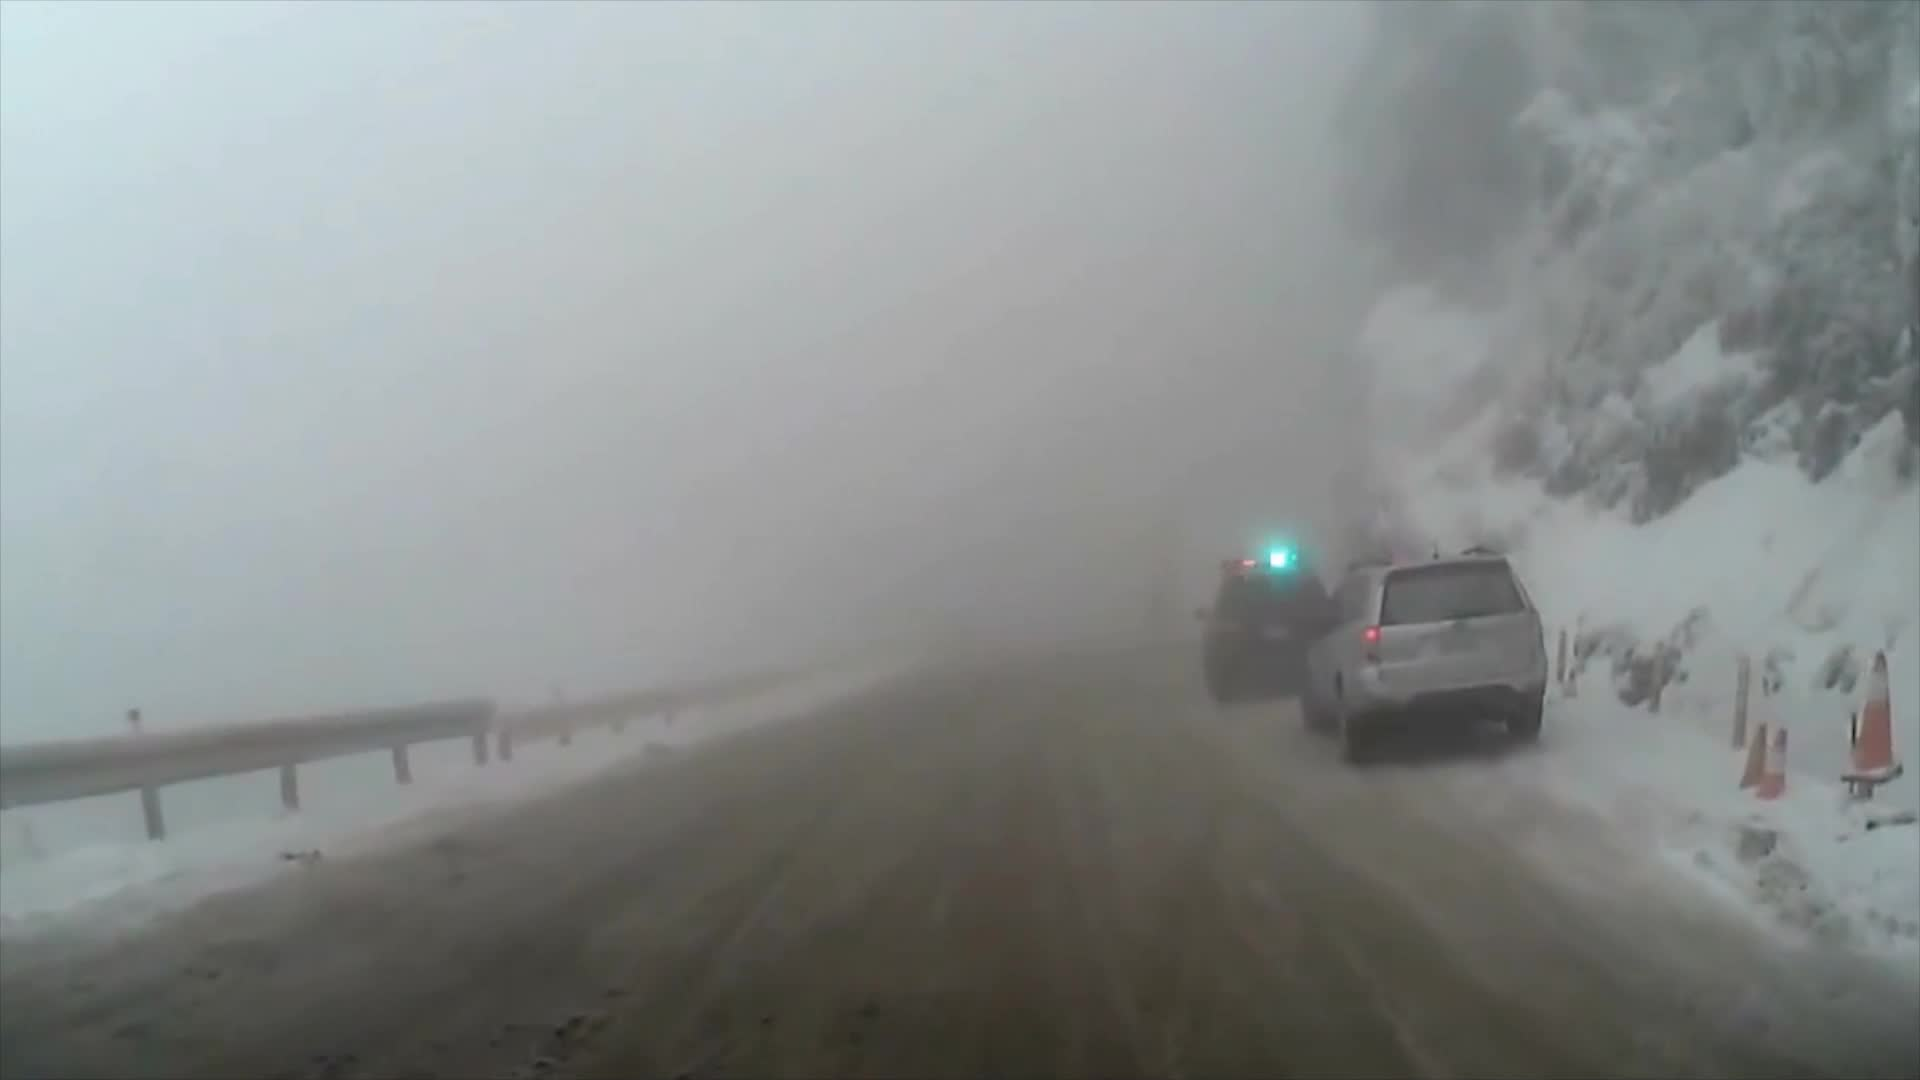vehicle: (1292, 535, 1543, 762), (1189, 549, 1338, 705)
